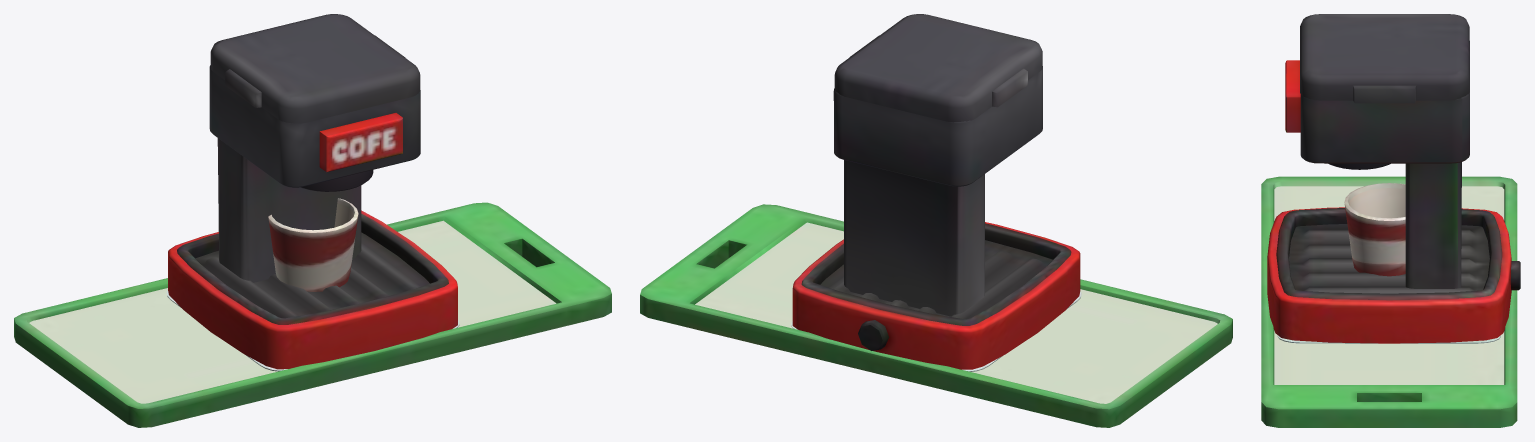
File: Kitchenware_mesh.fbx
3 renders of one model, left to right at view 1: azimuth 30°, elevation 25°; view 2: azimuth 150°, elevation 25°; view 3: azimuth 270°, elevation 25°, orthographic.
Parts seen in each view (by area): view 1: cutting_board, fryingPan, Cola_Machine_Body, Cola_Machine_Cover, cola_cup, Cola_Machine_Button_Coke; view 2: cutting_board, Cola_Machine_Body, fryingPan, Cola_Machine_Cover; view 3: cutting_board, fryingPan, Cola_Machine_Body, Cola_Machine_Cover, cola_cup, Cola_Machine_Button_Coke, tray.
Boxes of the visible parts, x1,y1,x2,y2 form: cutting_board: (14,202,611,427); fryingPan: (168,210,457,369); Cola_Machine_Body: (209,65,420,282); Cola_Machine_Cover: (210,14,420,123); cola_cup: (268,198,358,291); Cola_Machine_Button_Coke: (319,113,402,172); cutting_board: (640,204,1232,427); Cola_Machine_Body: (833,66,1042,316); fryingPan: (792,222,1080,369); Cola_Machine_Cover: (834,14,1042,122); cutting_board: (1261,176,1517,427); fryingPan: (1267,207,1520,343); Cola_Machine_Body: (1300,41,1469,288); Cola_Machine_Cover: (1300,14,1469,103); cola_cup: (1344,183,1405,276); Cola_Machine_Button_Coke: (1285,60,1300,132); tray: (1277,335,1500,343).
Size of the model in its own units: 59.65 by 32.02 by 28.1.
